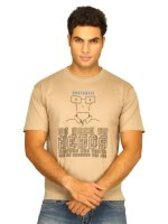clothoes: (21, 63, 150, 201)
